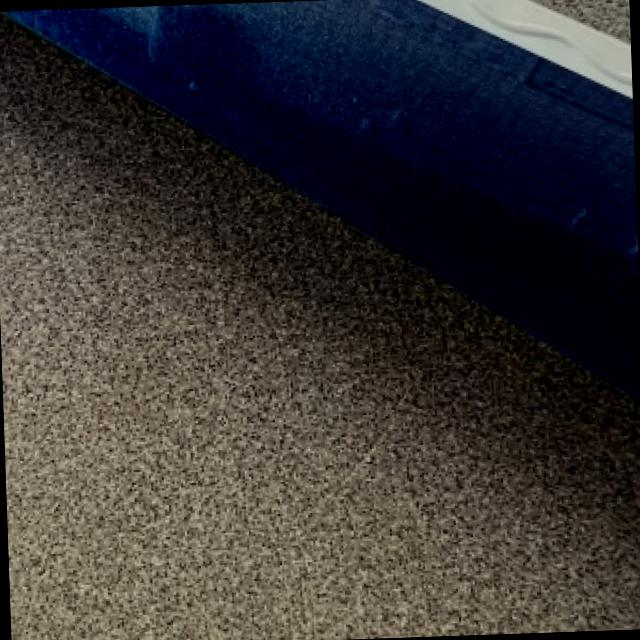healthy: (8, 511, 546, 640)
